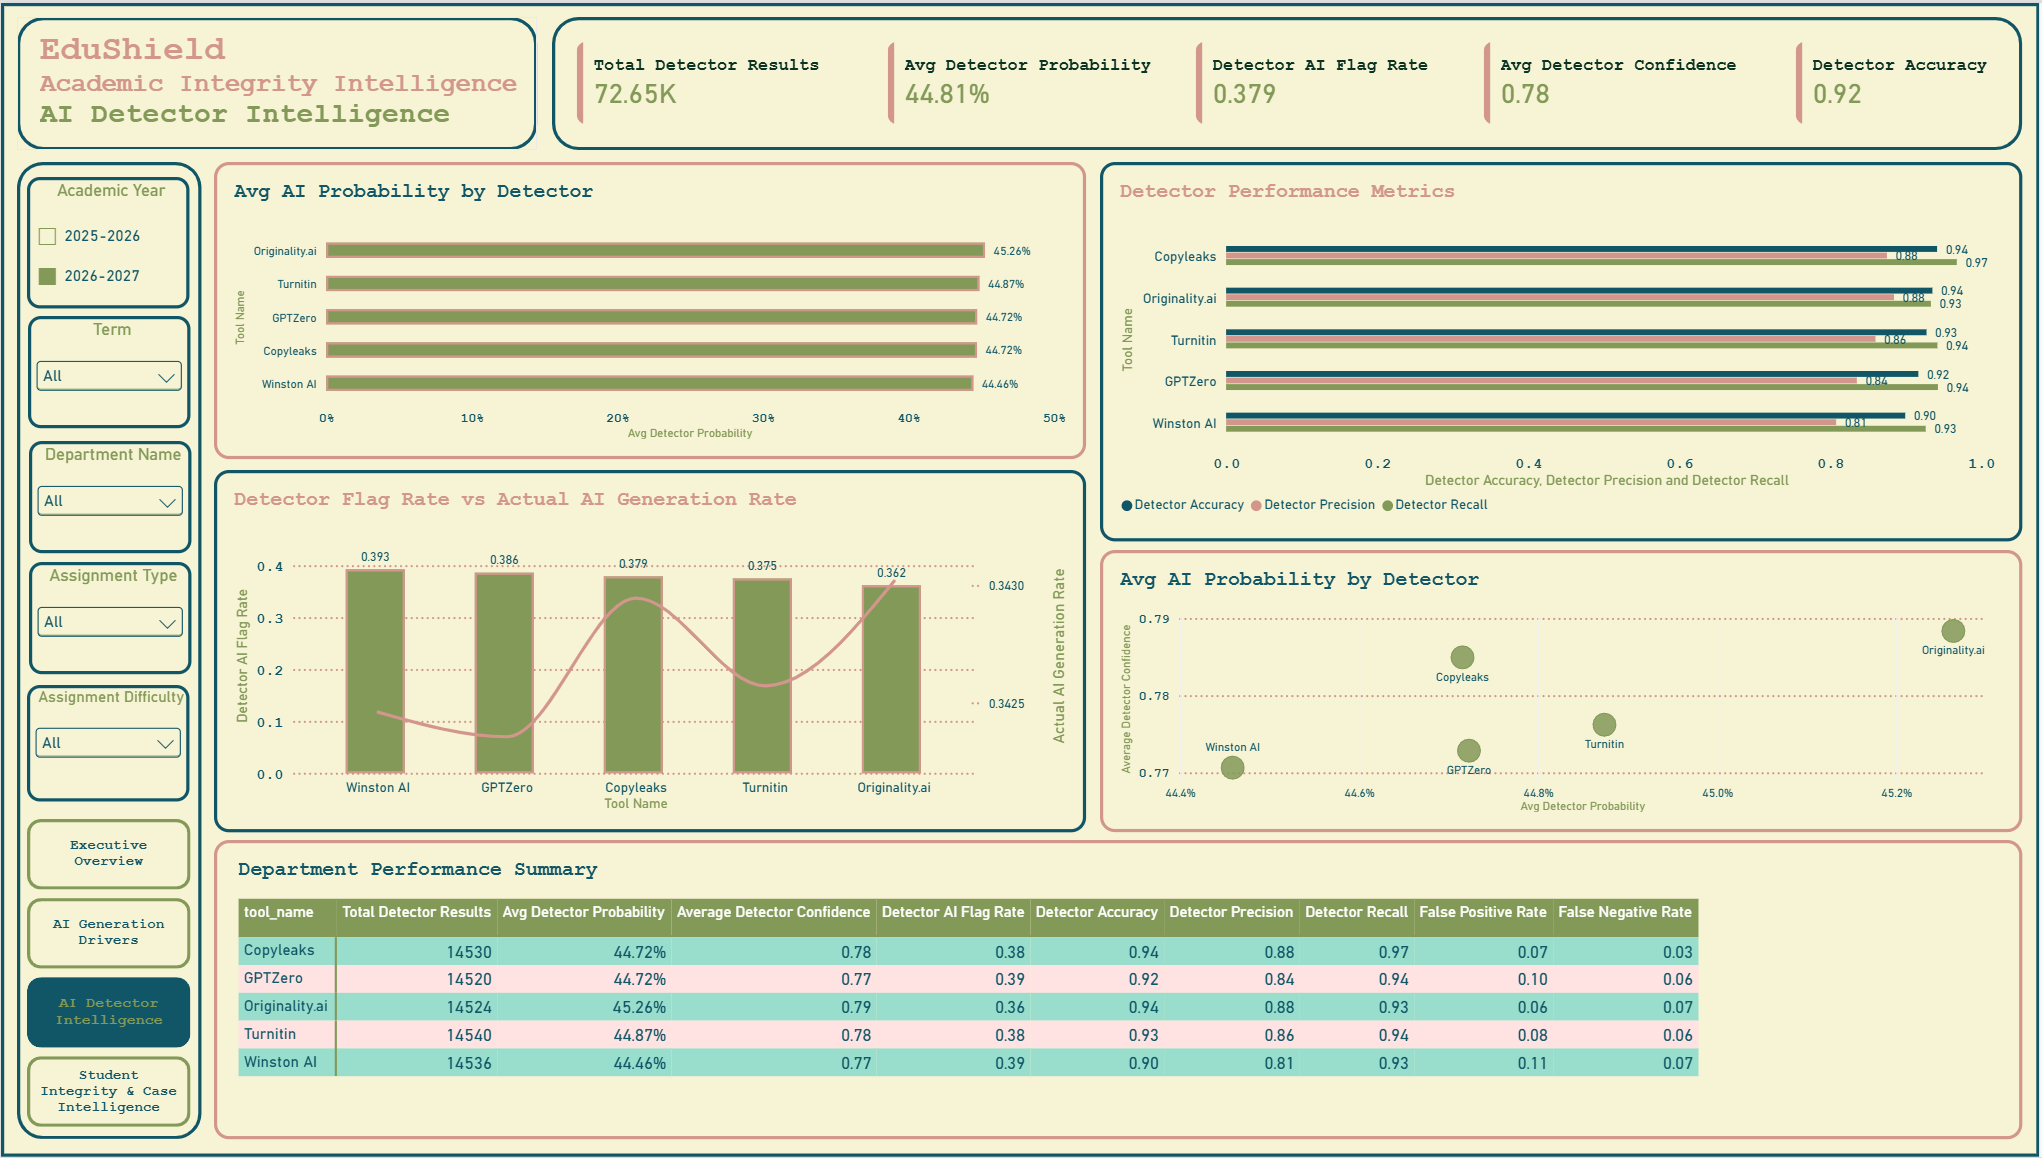

The page's visual inventory and layout, read from the dashboard file:
{"tool":"powerbi","page":{"name":"AI Detector Intelligence","canvas":[1920,1080],"ordinal":2},"visuals":[{"type":"shape","box":[0,0,1907.4,1079.5],"z":0},{"type":"shape","box":[15.1,13.2,486.8,124.5],"z":1000},{"type":"textbox","box":[36.8,25.5,834,112.3],"z":2000},{"type":"shape","box":[15.1,149.1,172.7,914.2],"z":3000},{"type":"shape","box":[515.1,13.2,1375.6,124.5],"z":4000},{"type":"cardVisual","fields":{"Data":["1_All_Measures.Total Detector Results","1_All_Measures.Avg Detector Probability"]},"box":[527.7,25.3,579.2,99.2],"z":5000},{"type":"cardVisual","fields":{"Data":["1_All_Measures.Detector AI Flag Rate"]},"box":[1106.9,25.3,260.1,99.2],"z":6000},{"type":"clusteredBarChart","title":"Avg AI Probability by Detector","fields":{"Category":["vw_detector_analysis.tool_name"],"Y":["1_All_Measures.Avg Detector Probability"]},"box":[199.3,148.8,815.9,277.9],"z":7000},{"type":"cardVisual","fields":{"Data":["1_All_Measures.Average Detector Confidence"]},"box":[1376.4,25.3,280.7,99.2],"z":8000},{"type":"lineClusteredColumnComboChart","title":"Detector Flag Rate vs Actual AI Generation Rate","fields":{"Category":["vw_detector_analysis.tool_name"],"Y":["1_All_Measures.Detector AI Flag Rate"],"Y2":["1_All_Measures.Actual AI Generation Rate"]},"box":[199.3,437,815.9,338.7],"z":9000},{"type":"cardVisual","fields":{"Data":["1_All_Measures.Detector Accuracy"]},"box":[1668.3,25.3,222.7,99.2],"z":10000},{"type":"clusteredBarChart","title":"Detector Performance Metrics","fields":{"Category":["vw_detector_analysis.tool_name"],"Y":["1_All_Measures.Detector Accuracy","1_All_Measures.Detector Precision","1_All_Measures.Detector Recall"]},"box":[1028.3,148.8,862.7,354.6],"z":11000},{"type":"scatterChart","title":"Avg AI Probability by Detector","fields":{"X":["1_All_Measures.Avg Detector Probability"],"Category":["vw_detector_analysis.tool_name"],"Y":["1_All_Measures.Average Detector Confidence"],"Size":["1_All_Measures.Total Detector Results"]},"box":[1028.3,511.8,862.7,263.9],"z":12000},{"type":"pivotTable","title":"Department Performance Summary","fields":{"Rows":["vw_detector_analysis.tool_name"],"Values":["1_All_Measures.Total Detector Results","1_All_Measures.Avg Detector Probability","1_All_Measures.Average Detector Confidence","1_All_Measures.Detector AI Flag Rate","1_All_Measures.Detector Accuracy","1_All_Measures.Detector Precision","1_All_Measures.Detector Recall","1_All_Measures.False Positive Rate","1_All_Measures.False Negative Rate"]},"box":[199.3,783.2,1691.7,279.8],"z":13000},{"type":"pageNavigator","box":[24.3,763.5,153.5,290.1],"z":13001},{"type":"slicer","title":"Academic Year","fields":{"Values":["academic_terms.academic_year"]},"box":[24.3,162.8,151.6,122.6],"z":13002},{"type":"slicer","title":"Term","fields":{"Values":["academic_terms.term_name"]},"box":[25.3,292.9,151.6,104.8],"z":13003},{"type":"slicer","title":"Department Name","fields":{"Values":["departments.department_name"]},"box":[26.2,409.8,151.6,104.8],"z":13004},{"type":"slicer","title":"Assignment Type","fields":{"Values":["assignments.assignment_type"]},"box":[26.2,523,151.6,104.8],"z":13005},{"type":"slicer","title":"Assignment Difficulty","fields":{"Values":["vw_submission_analytics.assignment_difficulty"]},"box":[24.3,638.1,151.6,108.5],"z":13006}]}

Visuals, with their boxes in screenshot pixels (x1, y1, x2, y2), scaled from the page's 1920x1080 canvas onto the 2042x1158 screenshot:
shape: <region>0, 0, 2029, 1157</region>
shape: <region>16, 14, 534, 148</region>
textbox: <region>39, 27, 926, 148</region>
shape: <region>16, 160, 200, 1140</region>
shape: <region>548, 14, 2011, 148</region>
cardVisual - 1_All_Measures.Total Detector Results x 1_All_Measures.Avg Detector Probability: <region>561, 27, 1177, 133</region>
cardVisual - 1_All_Measures.Detector AI Flag Rate: <region>1177, 27, 1454, 133</region>
"Avg AI Probability by Detector" clusteredBarChart: <region>212, 160, 1080, 458</region>
cardVisual - 1_All_Measures.Average Detector Confidence: <region>1464, 27, 1762, 133</region>
"Detector Flag Rate vs Actual AI Generation Rate" lineClusteredColumnComboChart: <region>212, 469, 1080, 832</region>
cardVisual - 1_All_Measures.Detector Accuracy: <region>1774, 27, 2011, 133</region>
"Detector Performance Metrics" clusteredBarChart: <region>1094, 160, 2011, 540</region>
"Avg AI Probability by Detector" scatterChart: <region>1094, 549, 2011, 832</region>
"Department Performance Summary" pivotTable: <region>212, 840, 2011, 1140</region>
pageNavigator: <region>26, 819, 189, 1130</region>
"Academic Year" slicer: <region>26, 175, 187, 306</region>
"Term" slicer: <region>27, 314, 188, 426</region>
"Department Name" slicer: <region>28, 439, 189, 552</region>
"Assignment Type" slicer: <region>28, 561, 189, 673</region>
"Assignment Difficulty" slicer: <region>26, 684, 187, 801</region>
